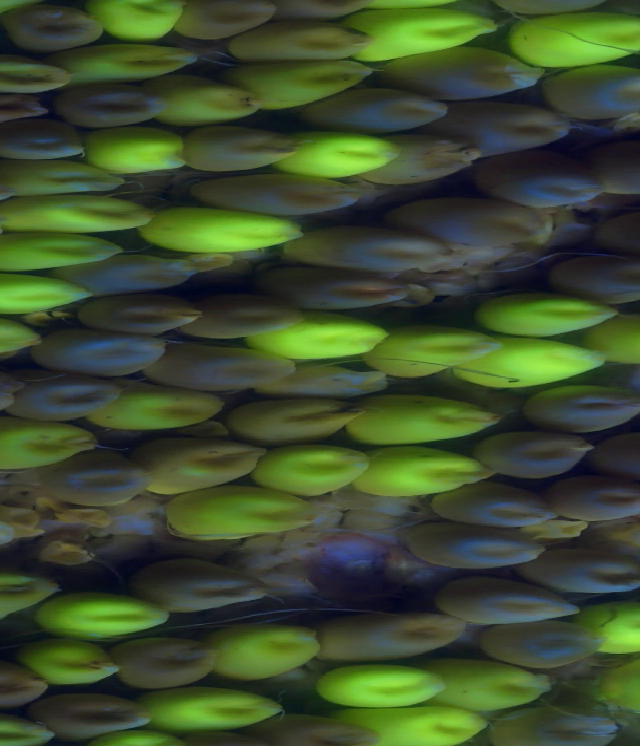fluorescent: (513, 7, 640, 68), (150, 205, 281, 258), (362, 10, 499, 55), (463, 343, 602, 387), (43, 589, 163, 639), (356, 404, 497, 446), (142, 437, 270, 482), (233, 397, 356, 443), (176, 500, 323, 537), (375, 452, 488, 500), (249, 56, 369, 101), (144, 691, 286, 729), (484, 292, 610, 334), (310, 666, 456, 702), (0, 420, 95, 473), (360, 704, 484, 743), (379, 326, 486, 371), (275, 321, 392, 362), (69, 50, 202, 85), (437, 665, 544, 707), (0, 236, 123, 272), (223, 629, 323, 673), (17, 637, 114, 682), (15, 207, 139, 242), (94, 130, 192, 173), (268, 455, 372, 495), (90, 1, 181, 45), (0, 273, 78, 321), (305, 130, 394, 172), (111, 389, 223, 421), (11, 162, 105, 200), (169, 84, 255, 124), (0, 565, 46, 623), (584, 602, 640, 645), (0, 55, 63, 89), (0, 713, 63, 745), (0, 308, 34, 363), (601, 310, 640, 352), (608, 656, 640, 702)
nonfluorescent: (421, 197, 559, 246), (311, 223, 447, 271), (157, 555, 273, 611), (318, 613, 470, 655), (404, 55, 537, 100), (440, 581, 569, 626), (166, 349, 291, 395), (533, 539, 640, 592), (208, 173, 342, 213), (50, 330, 169, 373), (418, 524, 539, 566), (188, 123, 298, 169), (497, 705, 616, 746), (491, 620, 597, 666), (488, 165, 604, 207), (82, 298, 197, 339), (120, 637, 220, 682), (14, 368, 111, 414), (288, 269, 423, 302), (447, 488, 549, 531), (469, 104, 569, 147), (489, 431, 585, 475), (86, 263, 204, 297), (42, 694, 144, 733), (326, 94, 444, 127), (552, 68, 640, 110), (394, 143, 481, 184), (176, 1, 268, 39), (59, 462, 144, 502), (0, 118, 81, 159), (13, 8, 97, 47), (536, 387, 640, 418), (197, 305, 289, 340), (570, 253, 640, 298), (57, 94, 157, 124), (569, 481, 640, 523), (305, 358, 381, 392), (0, 666, 46, 702), (607, 213, 640, 255), (610, 145, 640, 188), (0, 92, 34, 127)
